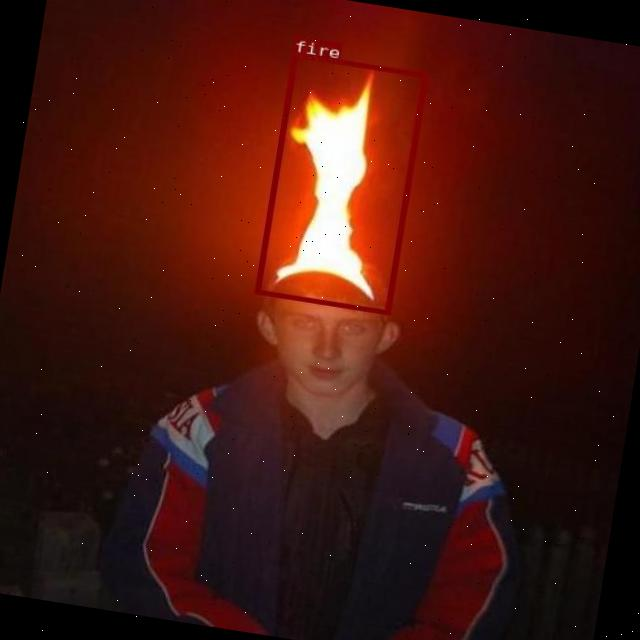fire: (254, 53, 426, 314)
